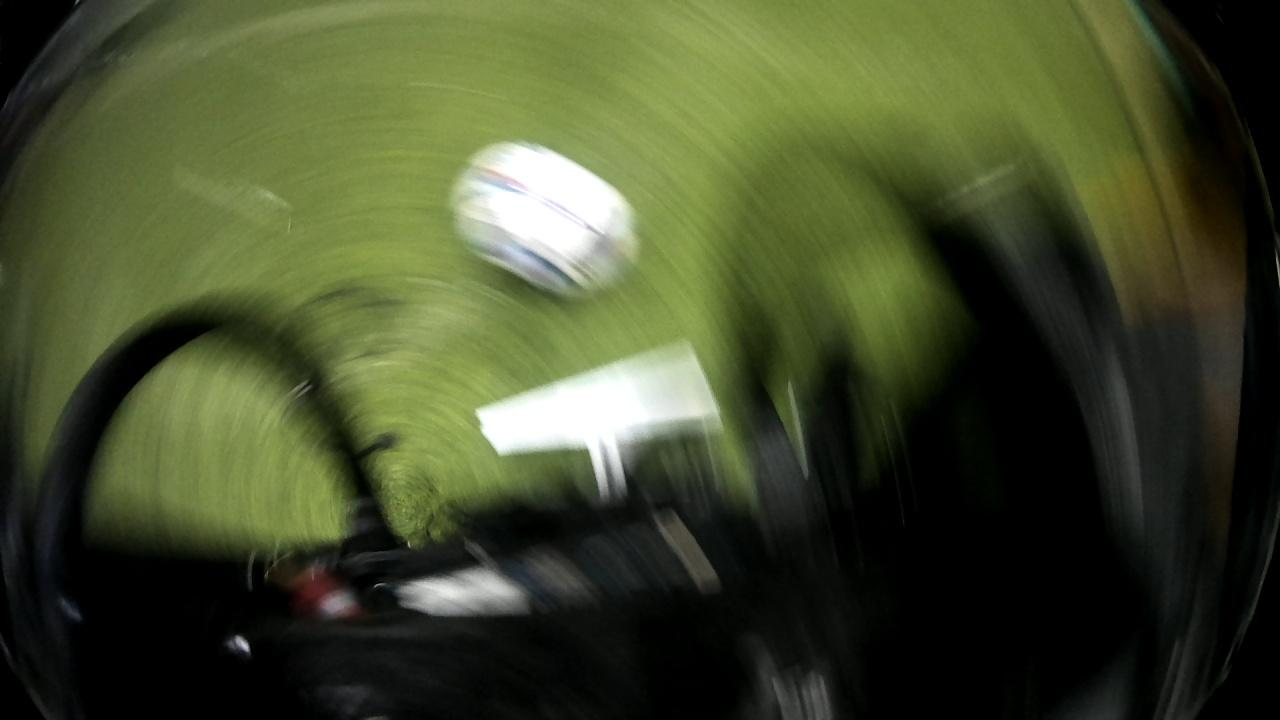ball: (453, 138, 641, 312)
